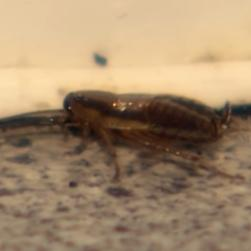cockroach: (56, 87, 235, 175)
